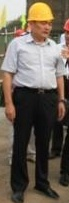boots: (11, 190, 24, 203), (0, 198, 16, 203)
hard-hat: (0, 0, 18, 24)
ppe-suit: (0, 31, 34, 203)
